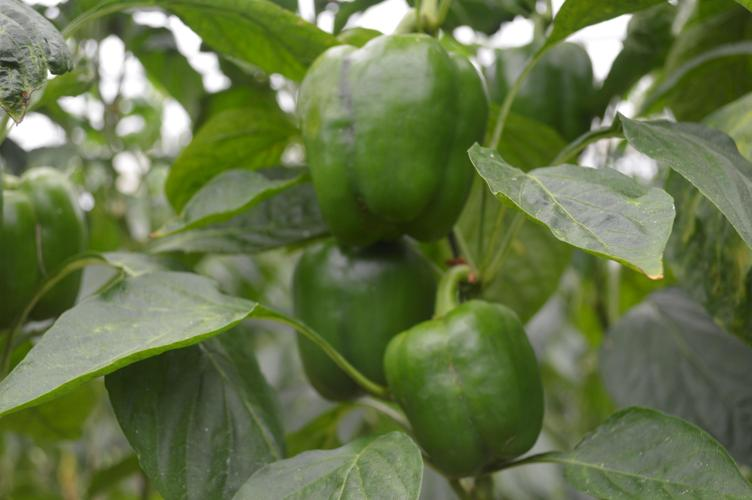BellPepper: (291, 37, 485, 234), (386, 301, 541, 463), (286, 241, 440, 394), (3, 170, 91, 323), (491, 38, 589, 132)
